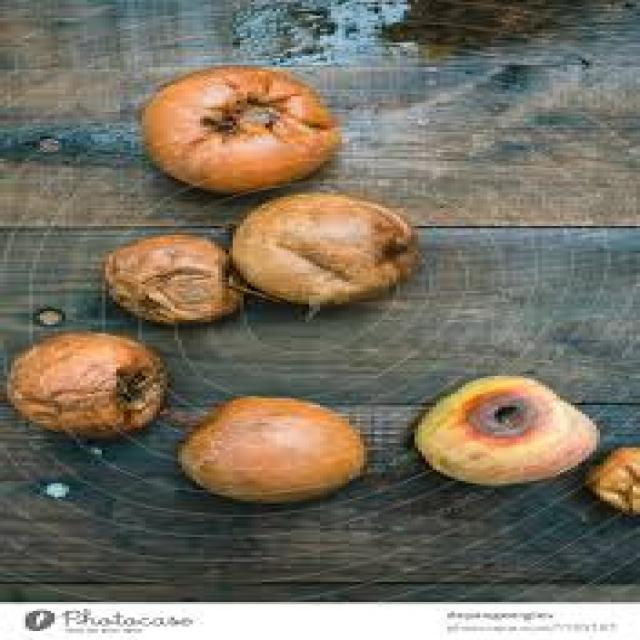organic waste: (135, 62, 327, 192), (168, 392, 368, 504), (226, 190, 414, 307), (407, 374, 593, 486), (0, 329, 160, 439), (98, 231, 240, 322), (578, 438, 636, 512)
